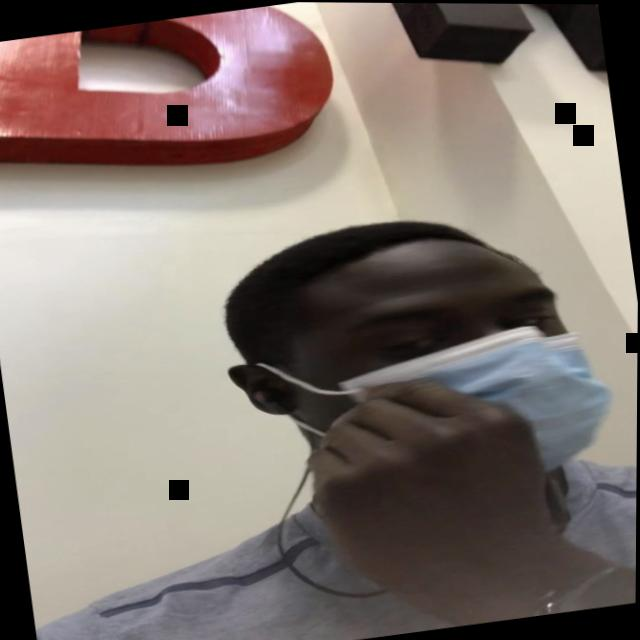Mask: (251, 242, 622, 512)
